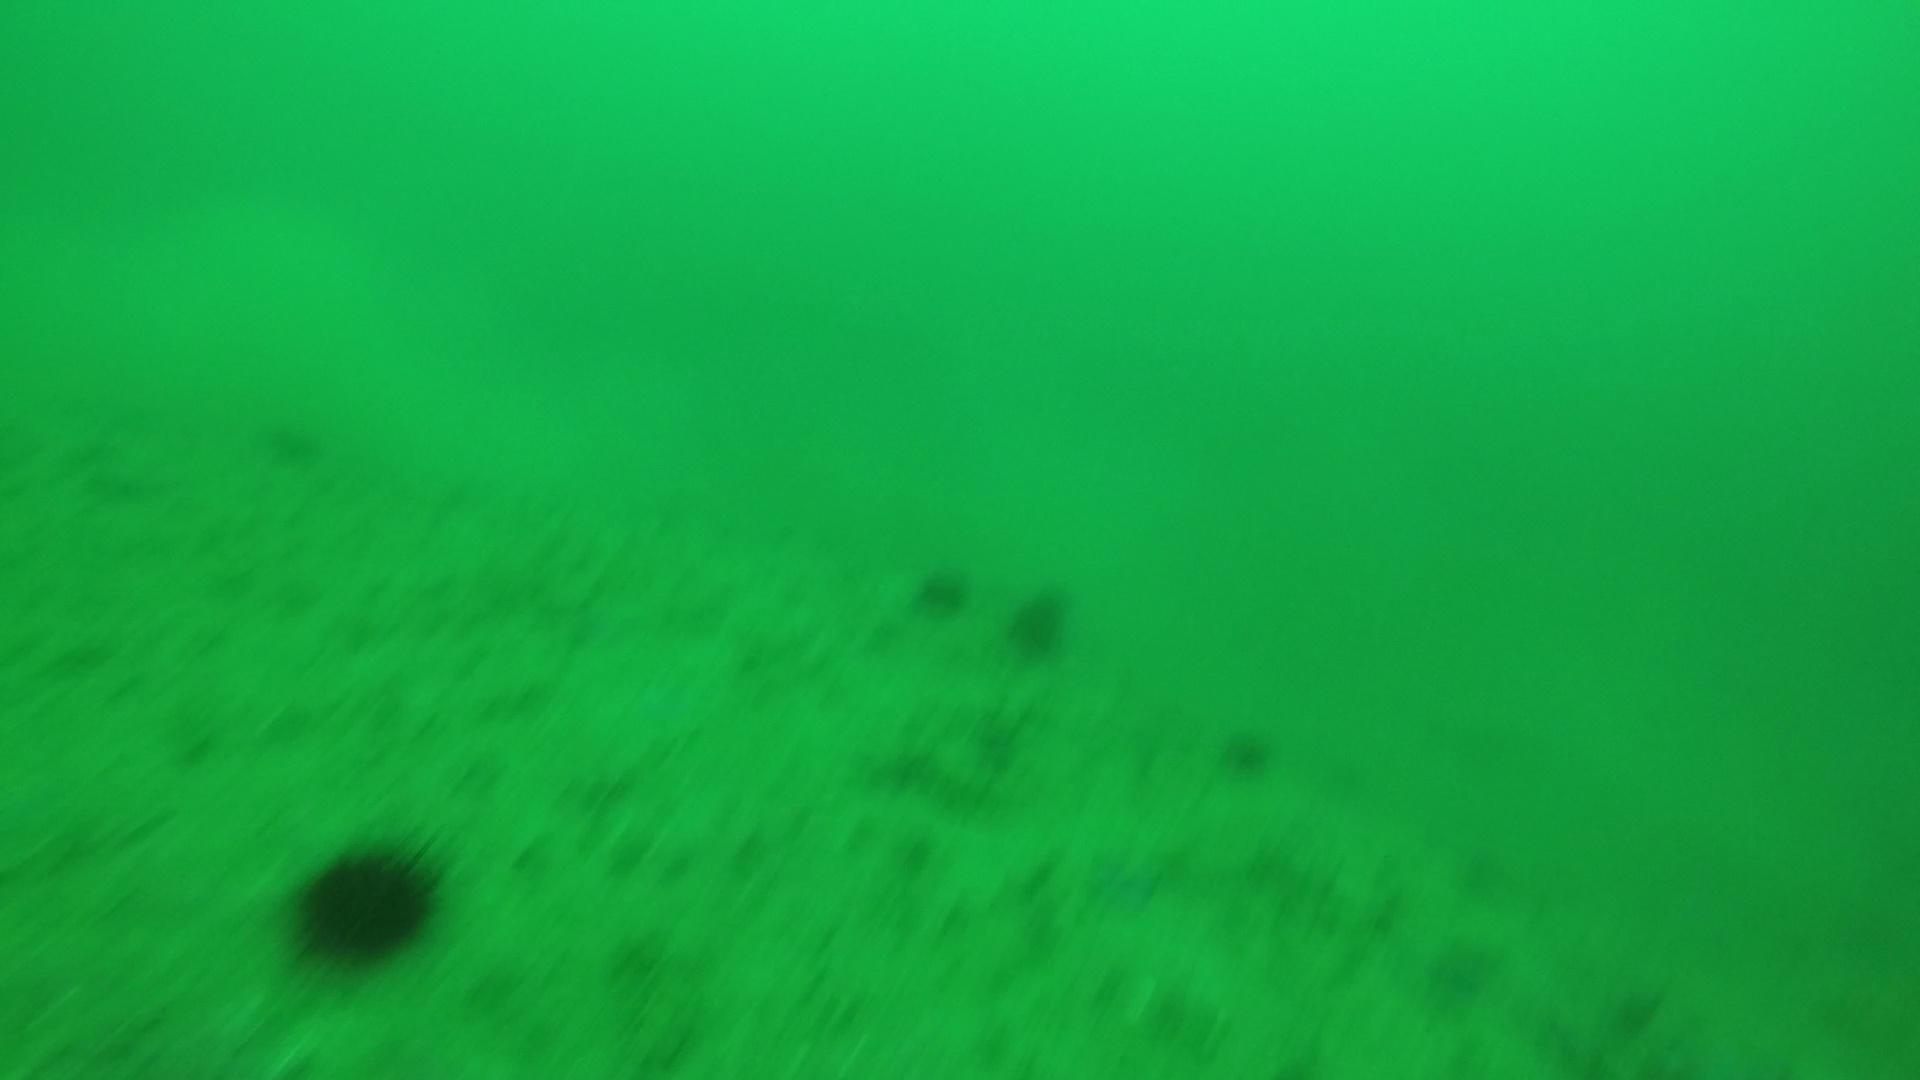echinus: (285, 833, 447, 969), (1422, 931, 1503, 1004), (1004, 583, 1075, 659), (258, 407, 327, 469), (910, 560, 975, 618), (1215, 721, 1278, 779)
starfish: (1085, 833, 1178, 915)
